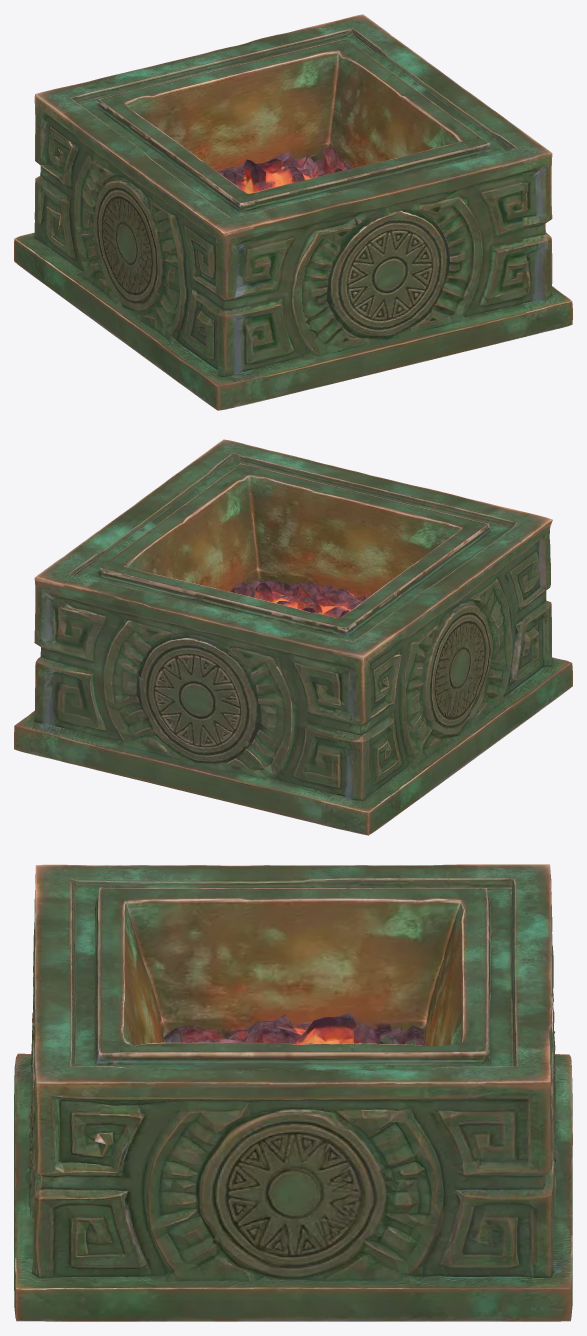
File: VietI_Ember_Box.glb
The picture shows the model from 3 angles, top to bottom: view 1: azimuth 30°, elevation 25°; view 2: azimuth 150°, elevation 25°; view 3: azimuth 270°, elevation 25°; orthographic projection. The views are drawn at different scales.
Parts seen in each view (by area): view 1: Mesh_0; view 2: Mesh_0; view 3: Mesh_0.
Boxes of the visible parts, left/top/right/bottom form: Mesh_0: left=14, top=14, right=572, bottom=410; Mesh_0: left=14, top=439, right=572, bottom=835; Mesh_0: left=14, top=864, right=572, bottom=1321.
Bounding box in the file's own units: 1.9 × 0.8828 × 1.9.
Materials: 1 (1 with a texture image).
